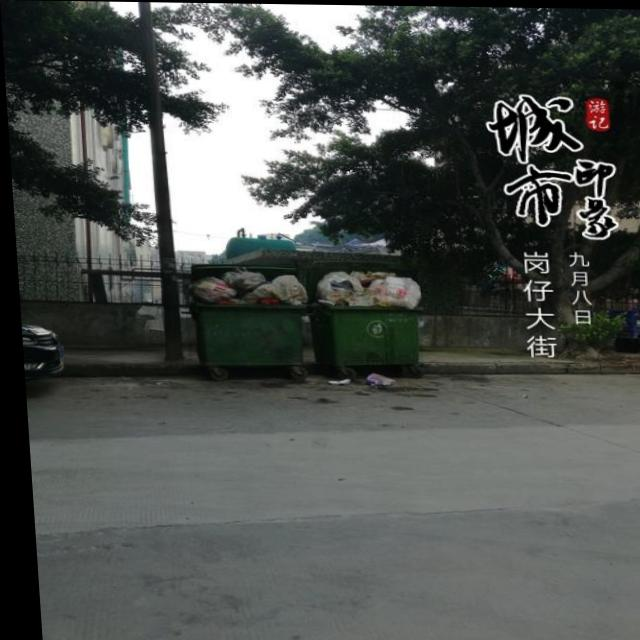garbage: (323, 371, 392, 386)
overflow: (179, 262, 305, 362), (300, 267, 419, 366)
